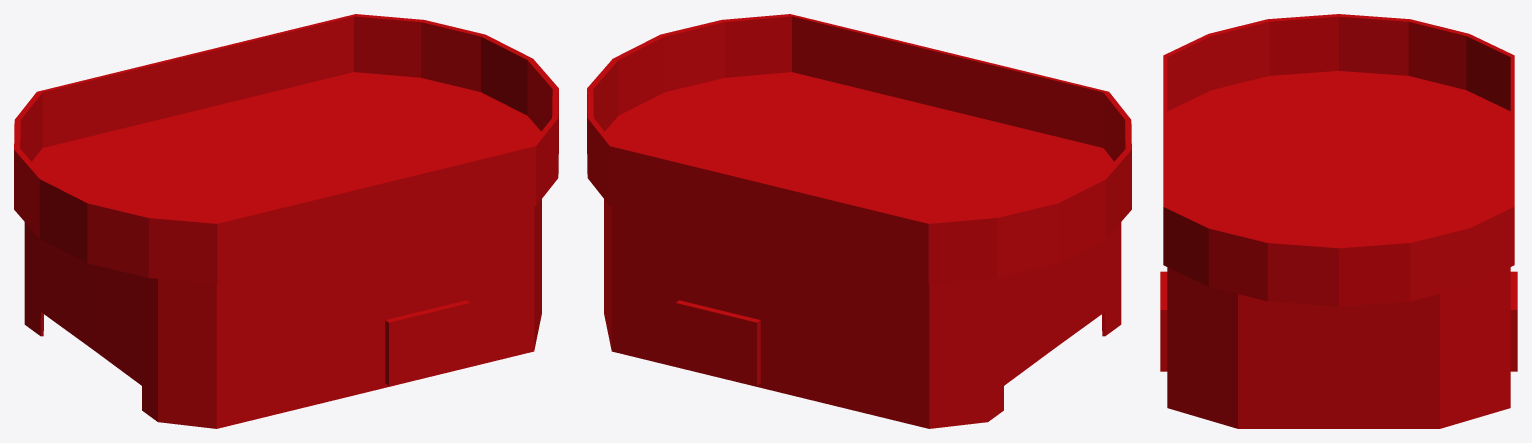
The model's file is chassis.dae.
3 views of the same model, side by side, from view 1: azimuth 30°, elevation 25°; view 2: azimuth 150°, elevation 25°; view 3: azimuth 270°, elevation 25° (orthographic). The views are drawn at different scales.
Visible parts, largest first — view 1: Chassis; view 2: Chassis; view 3: Chassis.
Boxes of the visible parts, x1,y1,x2,y2 form: Chassis: [14, 14, 558, 428]; Chassis: [587, 14, 1131, 428]; Chassis: [1160, 14, 1517, 428].
Bounding box in the file's own units: 0.4298 × 0.2771 × 0.1722.
